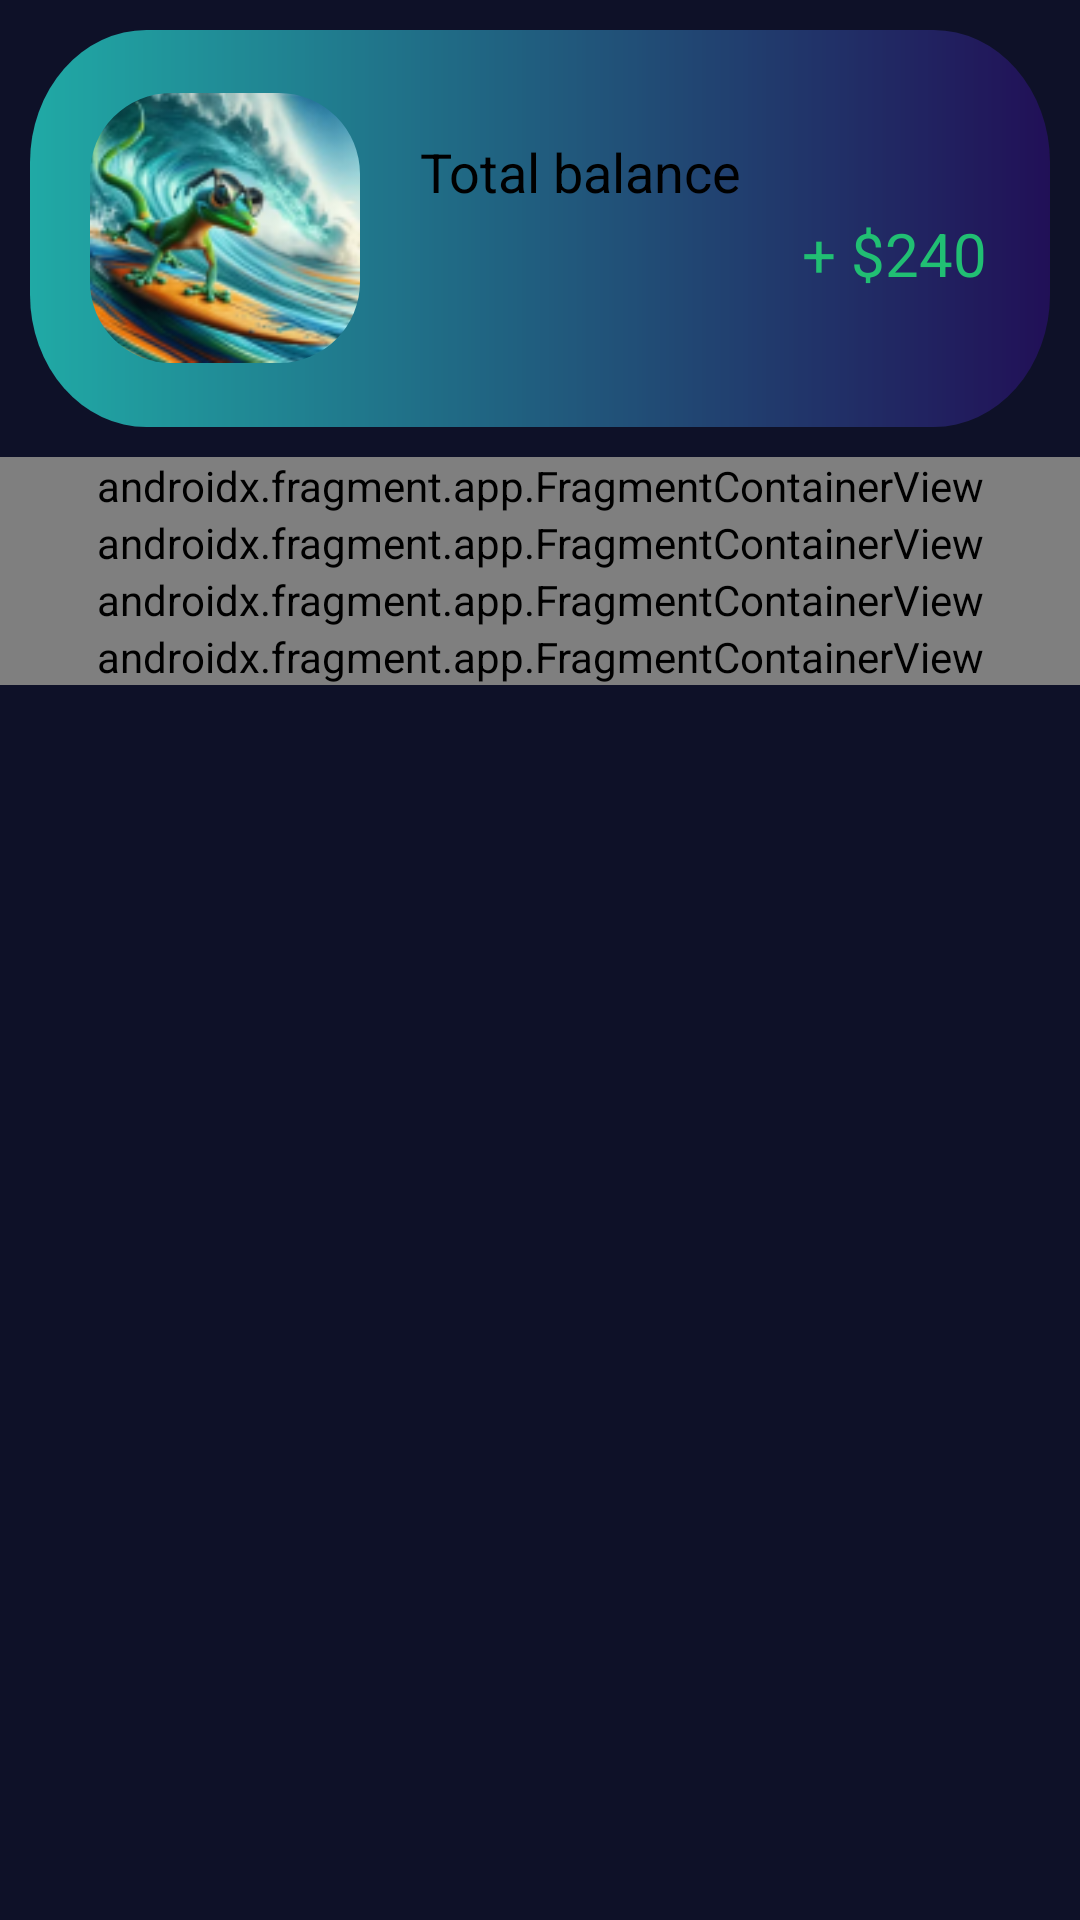

Named icons in this screenshot (1080px x 1920px) and their centers, (x,y):
profile: (225,228)
